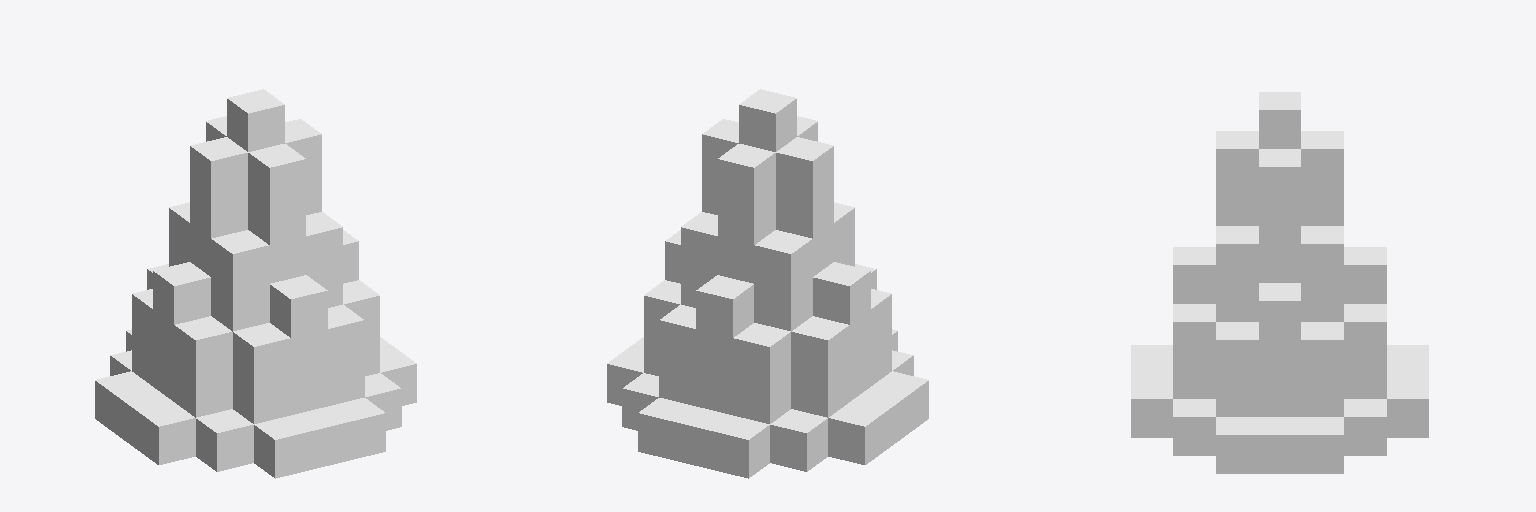
File: plo.obj
The picture shows the model from 3 angles: view 1: azimuth 30°, elevation 25°; view 2: azimuth 150°, elevation 25°; view 3: azimuth 270°, elevation 25°; orthographic projection.
Parts seen in each view (by area): view 1: object 1; view 2: object 1; view 3: object 1.
Part boxes in pixels (bbox=[...]): object 1: bbox=[95, 89, 416, 478]; object 1: bbox=[607, 89, 928, 478]; object 1: bbox=[1131, 92, 1428, 473].
Size of the model in its own units: 0.7 by 0.8 by 0.7.